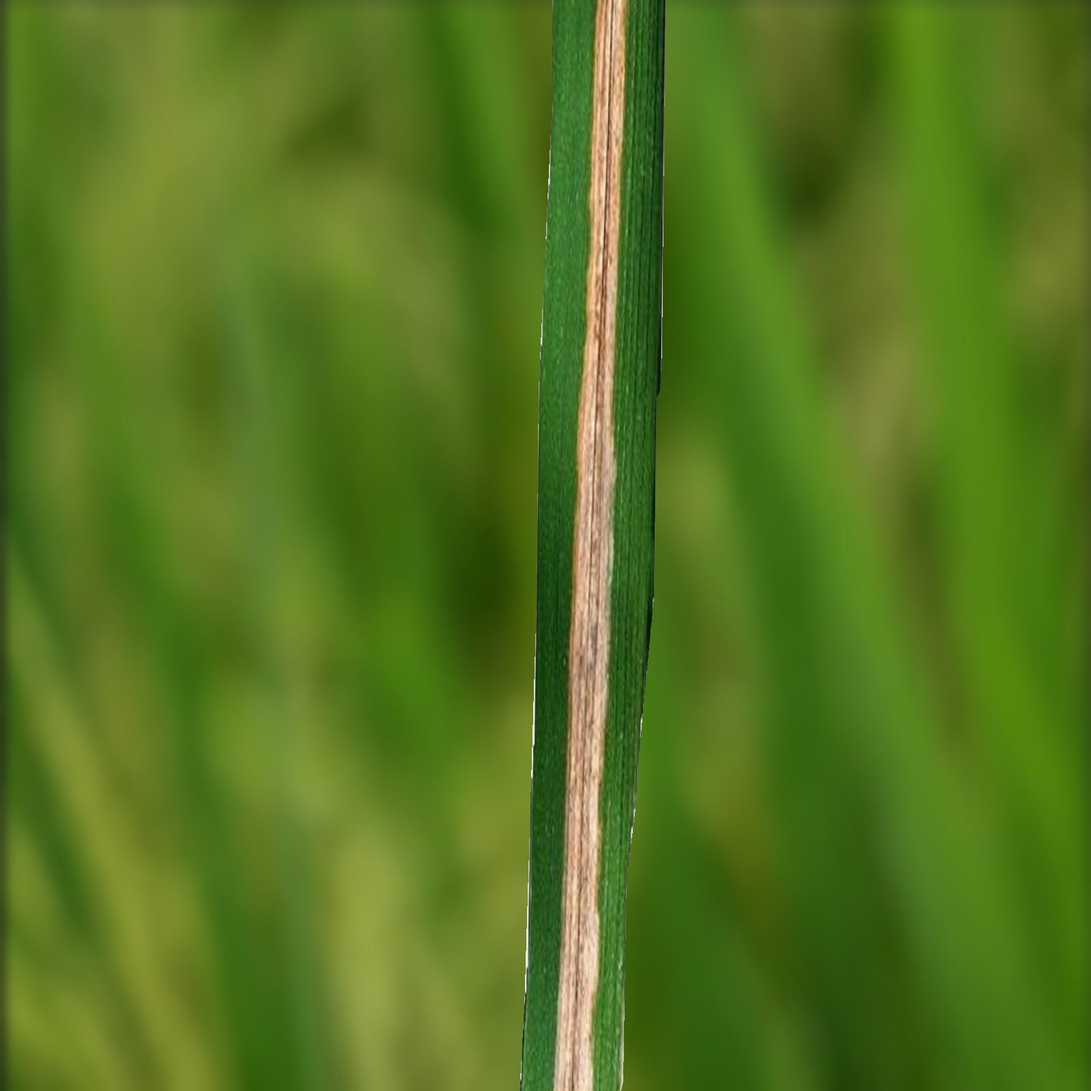BLB: (551, 0, 629, 1090)
LEAF: (520, 0, 665, 1090)
